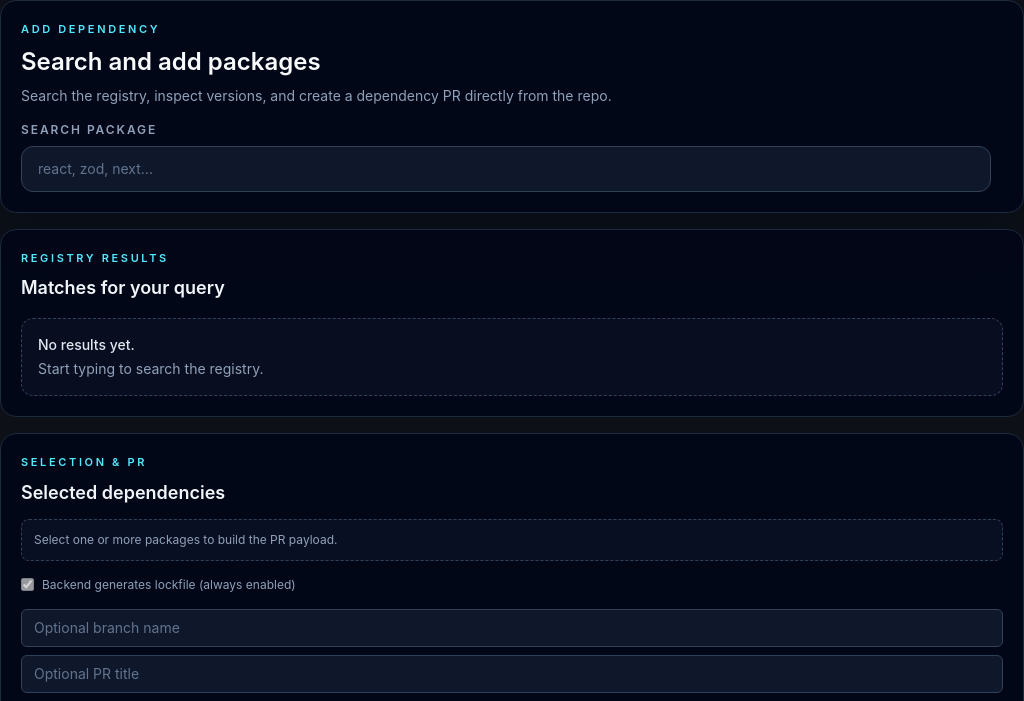
Scenario: AddDependencyPanel › shows a did-you-mean suggestion when the backend returns one
The image size is (1024, 701).
Step 1. Type "rpequests" into the search field labelled "Search package" → (506, 168), box top-left (21, 146), bottom-right (991, 192)
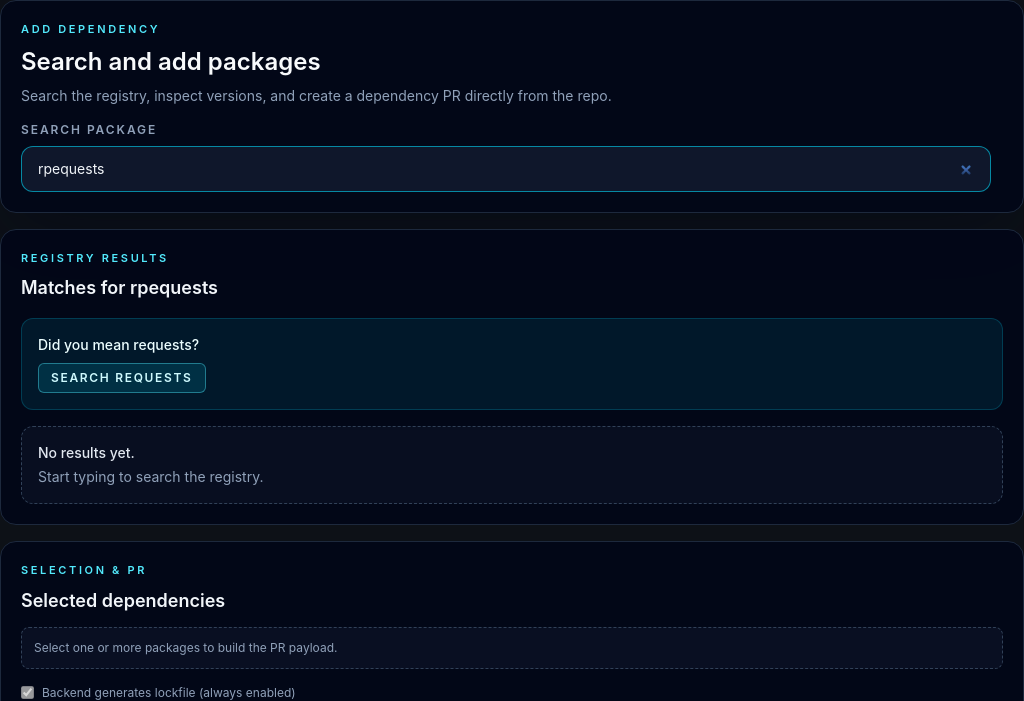
Now the text "Did you mean requests?" is shown, box top-left (38, 336), bottom-right (199, 353)
Step 2. Click the button "Search requests" → (122, 378), box top-left (38, 363), bottom-right (206, 393)
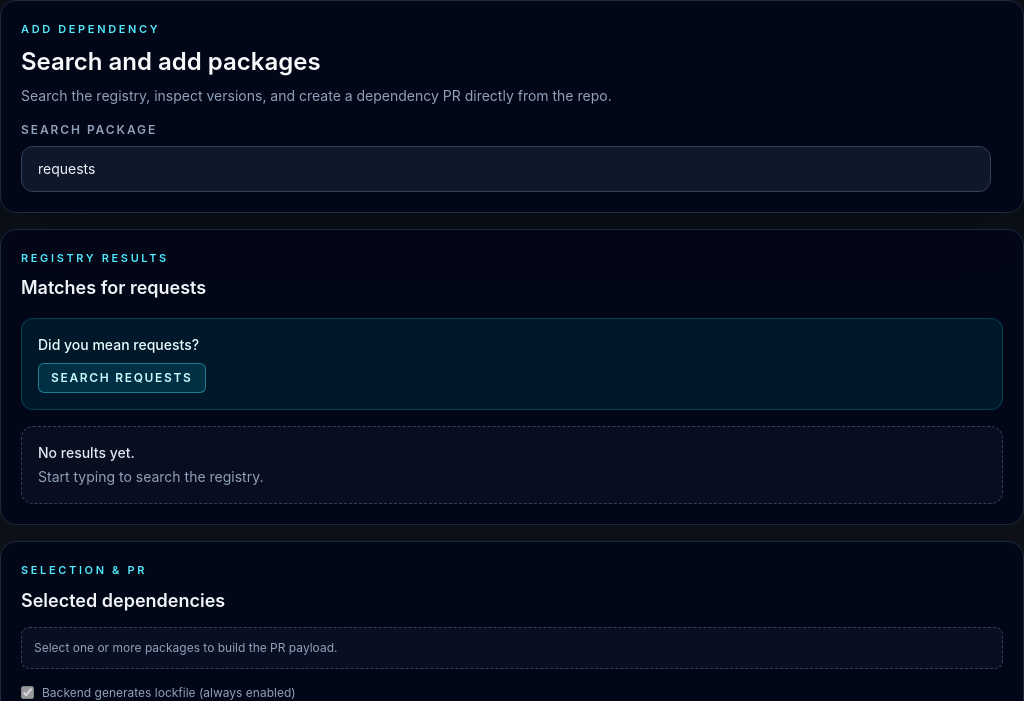
Now the search field labelled "Search package" holds "requests", box top-left (21, 146), bottom-right (991, 192)
